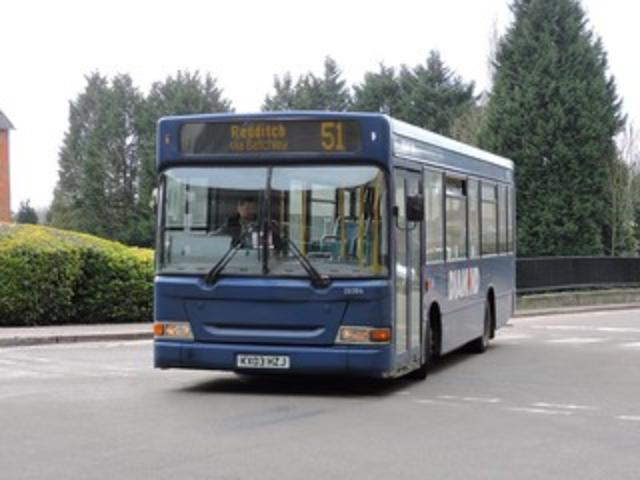bus: (150, 110, 514, 382)
